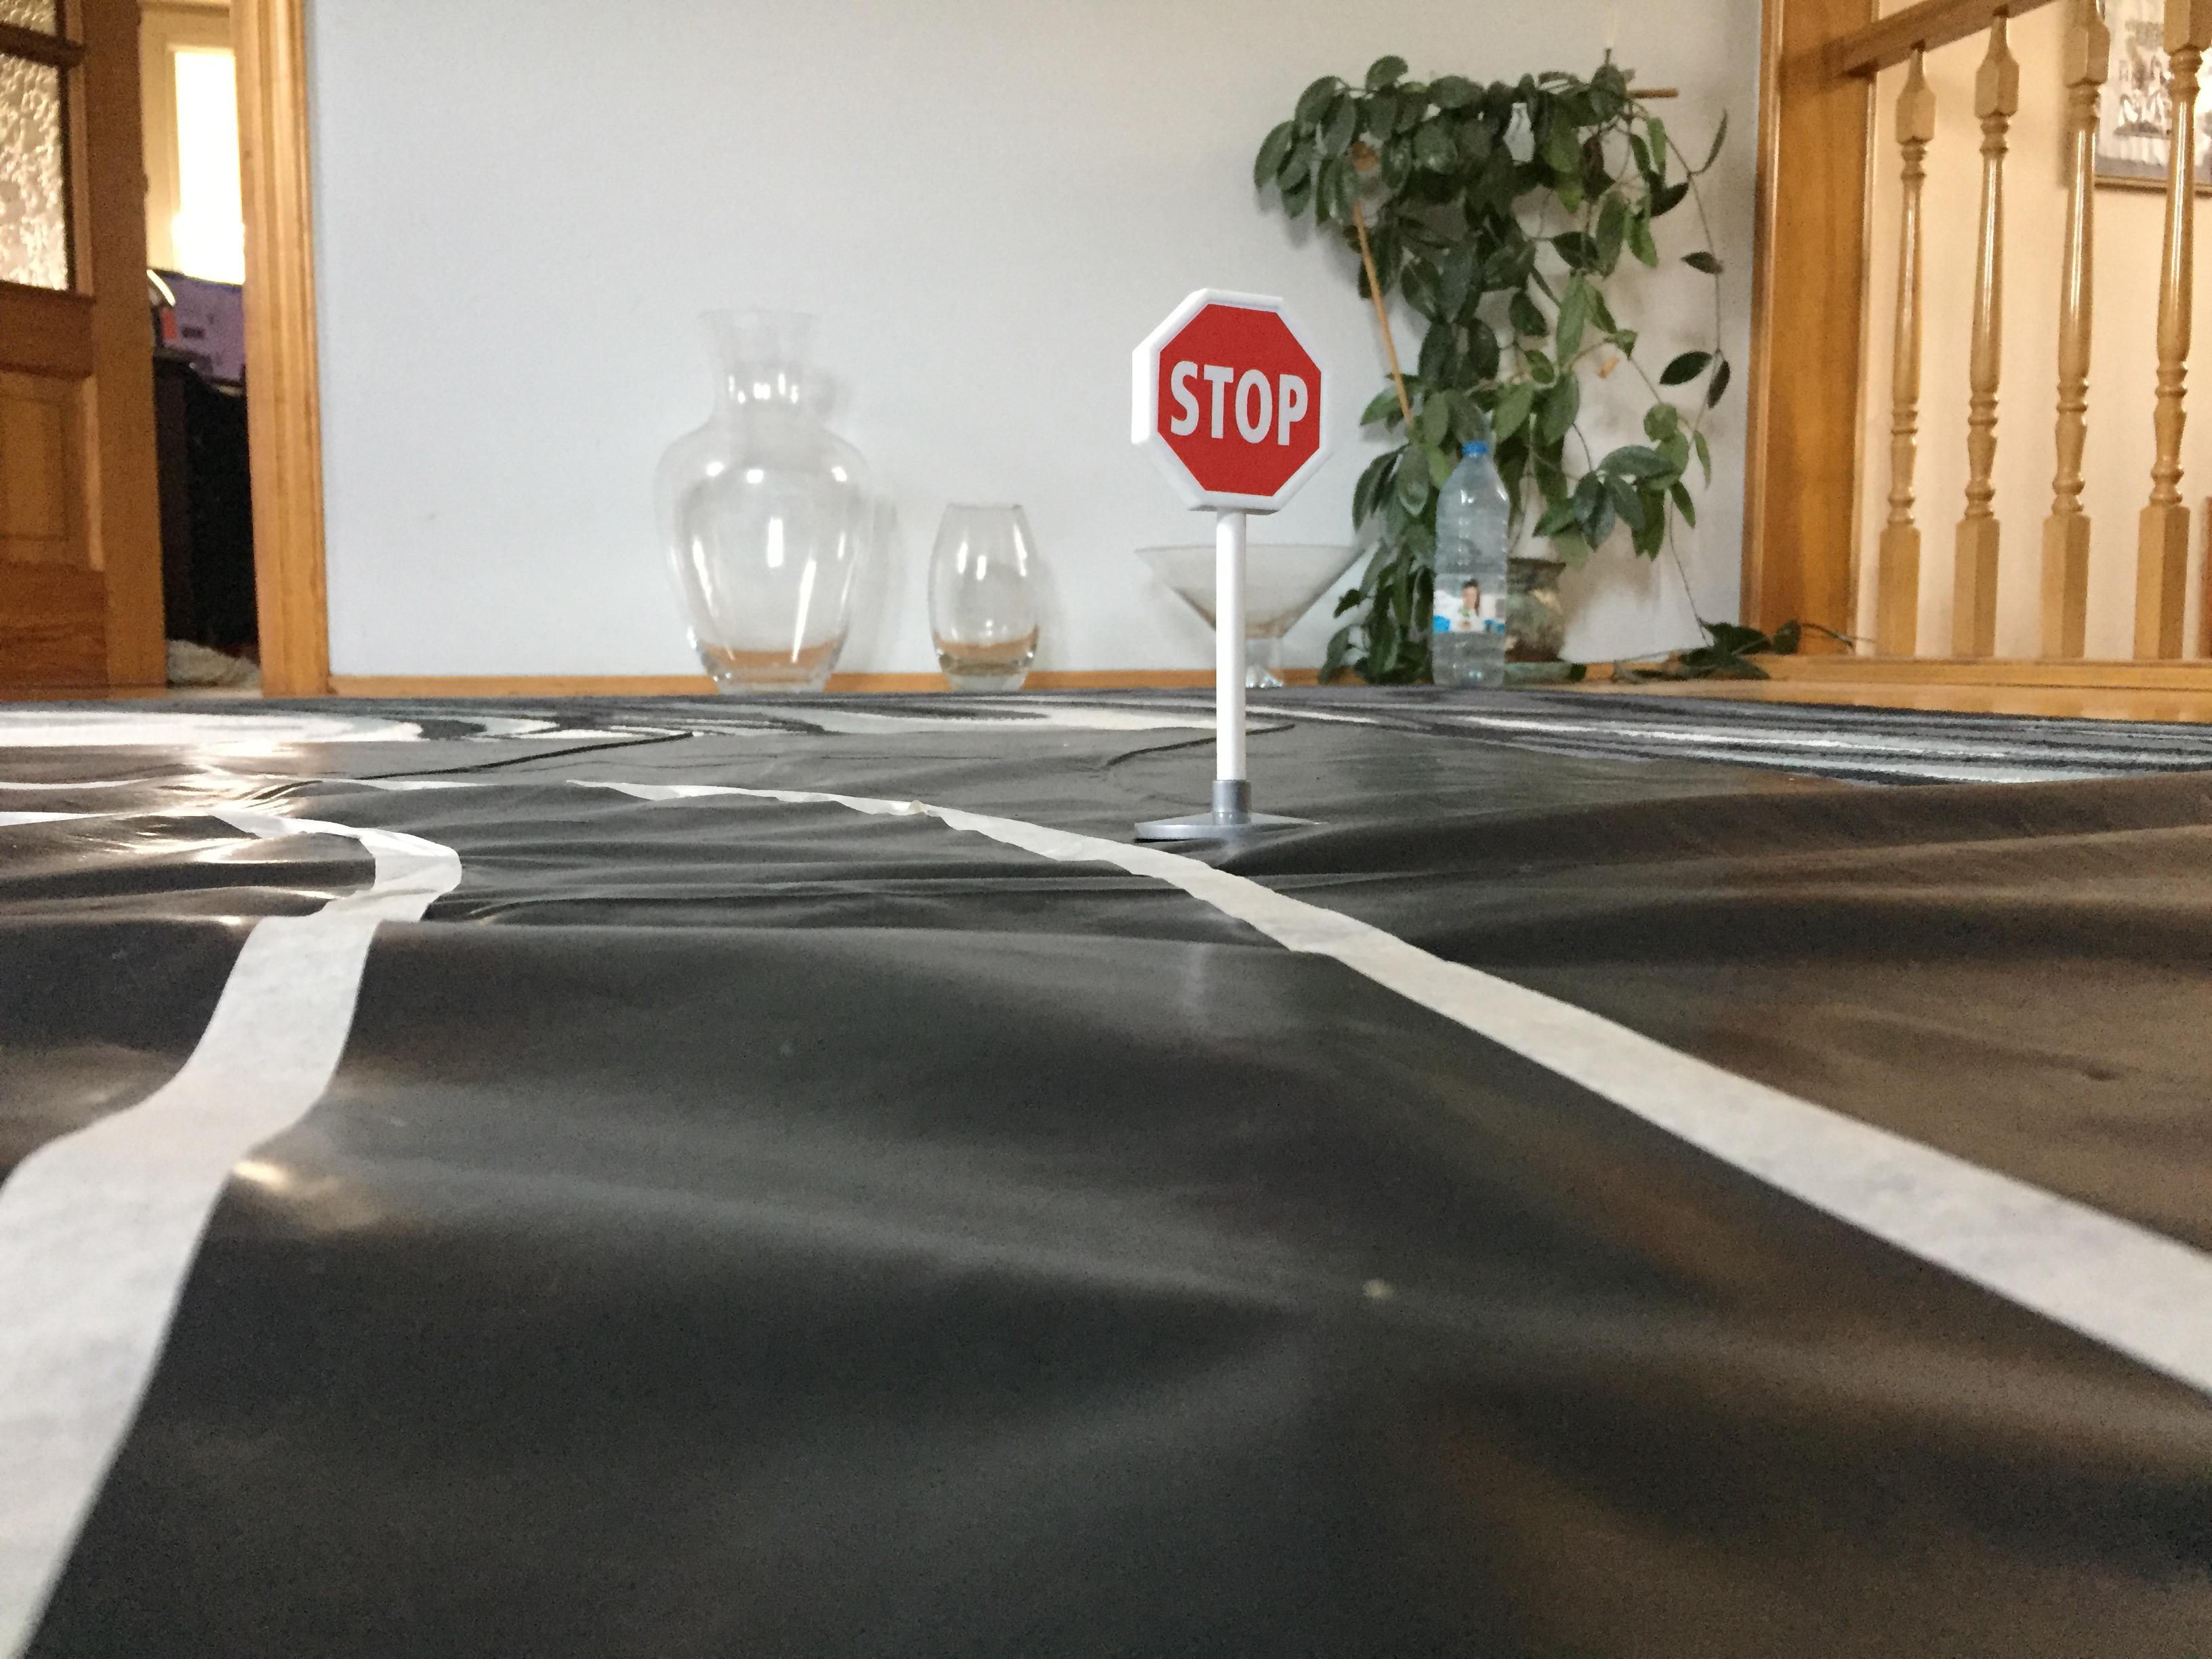stop: (1122, 284, 1341, 532)
